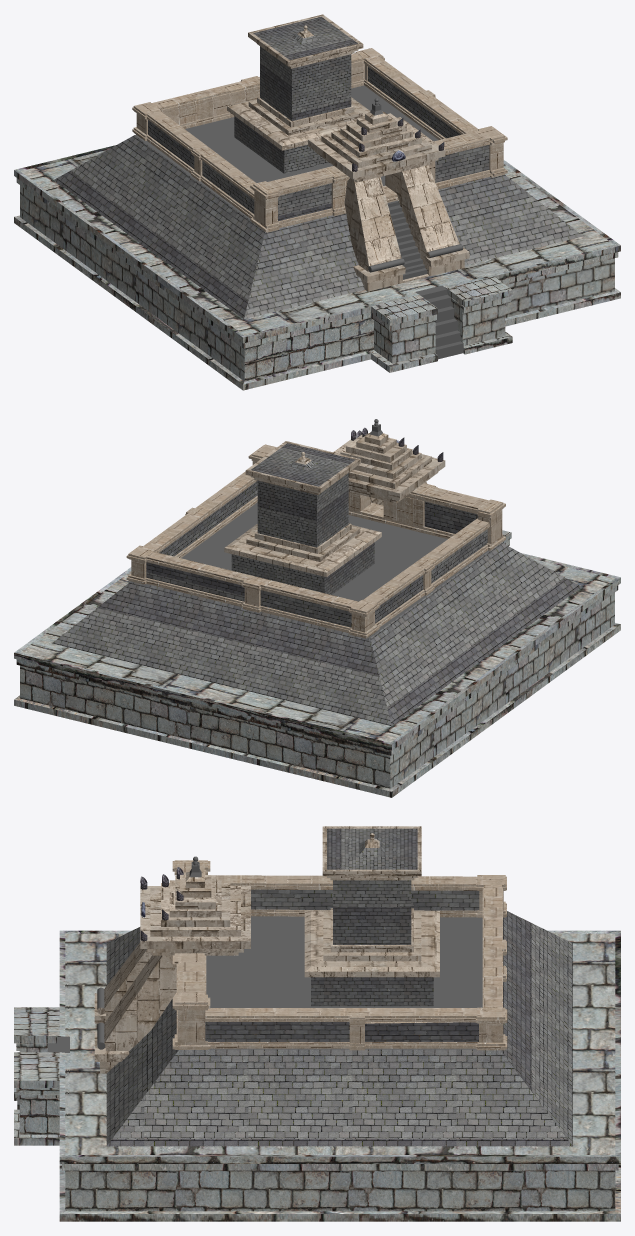
File: Upload CCF.obj
3 views of the same model, one above another, from view 1: azimuth 30°, elevation 25°; view 2: azimuth 150°, elevation 25°; view 3: azimuth 270°, elevation 25° (orthographic). The views are drawn at different scales.
Parts seen in each view (by area): view 1: polySurface3; view 2: polySurface3; view 3: polySurface3.
Boxes of the visible parts, box(x1,y1,x2,y2) form: polySurface3: box(14, 14, 620, 390); polySurface3: box(14, 419, 620, 797); polySurface3: box(14, 826, 620, 1221).
Bounding box in the file's own units: 19.98 × 11.37 × 22.68.
14 materials, 10 textured.
